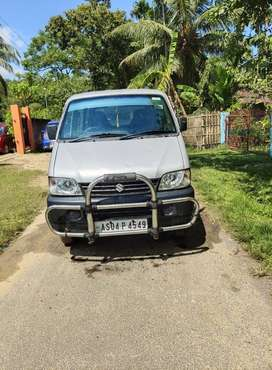AS04P4549: (95, 219, 148, 233)
